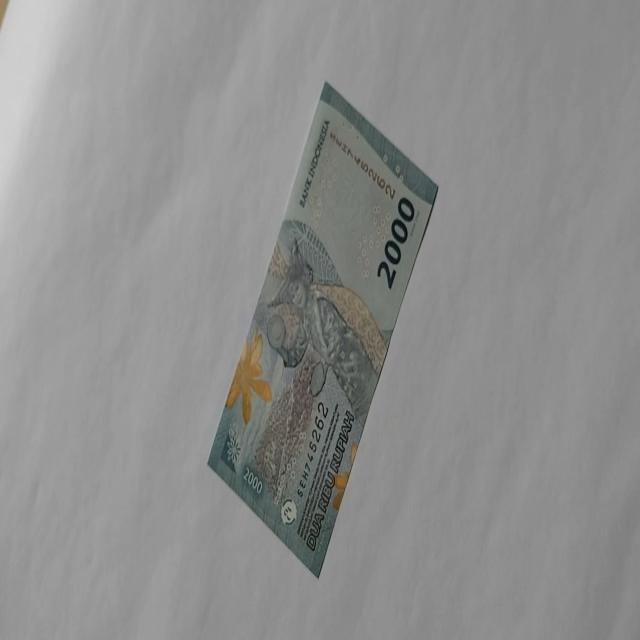dua ribu rupiah: (206, 79, 439, 579), (265, 233, 386, 419)
